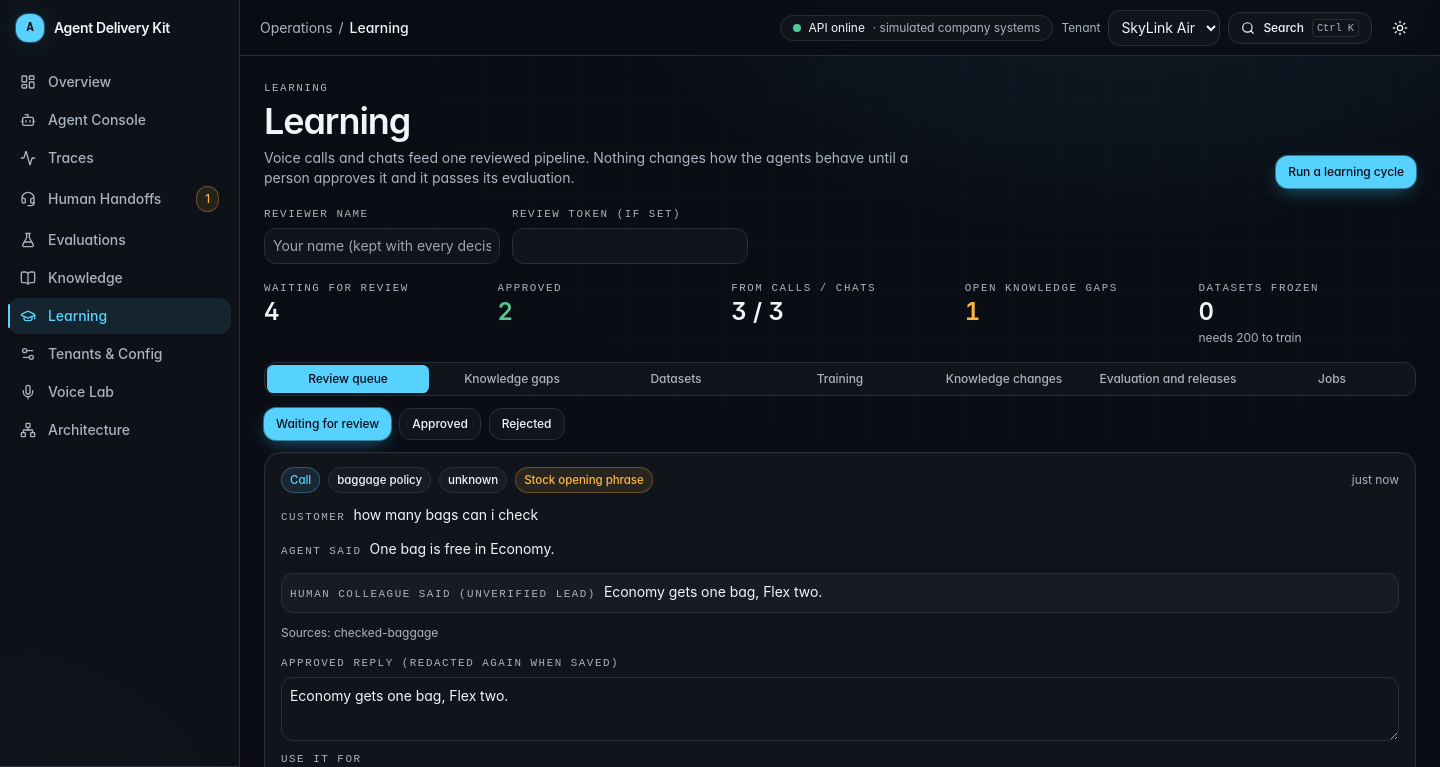
it: Learning console: training and knowledge changes › shows the machine honestly, with the reason training is not ready
What coordinates should you click on to do the following:
click the tab "Training"
I would click on:
 (840, 379)
Its box is [759,365,921,393].
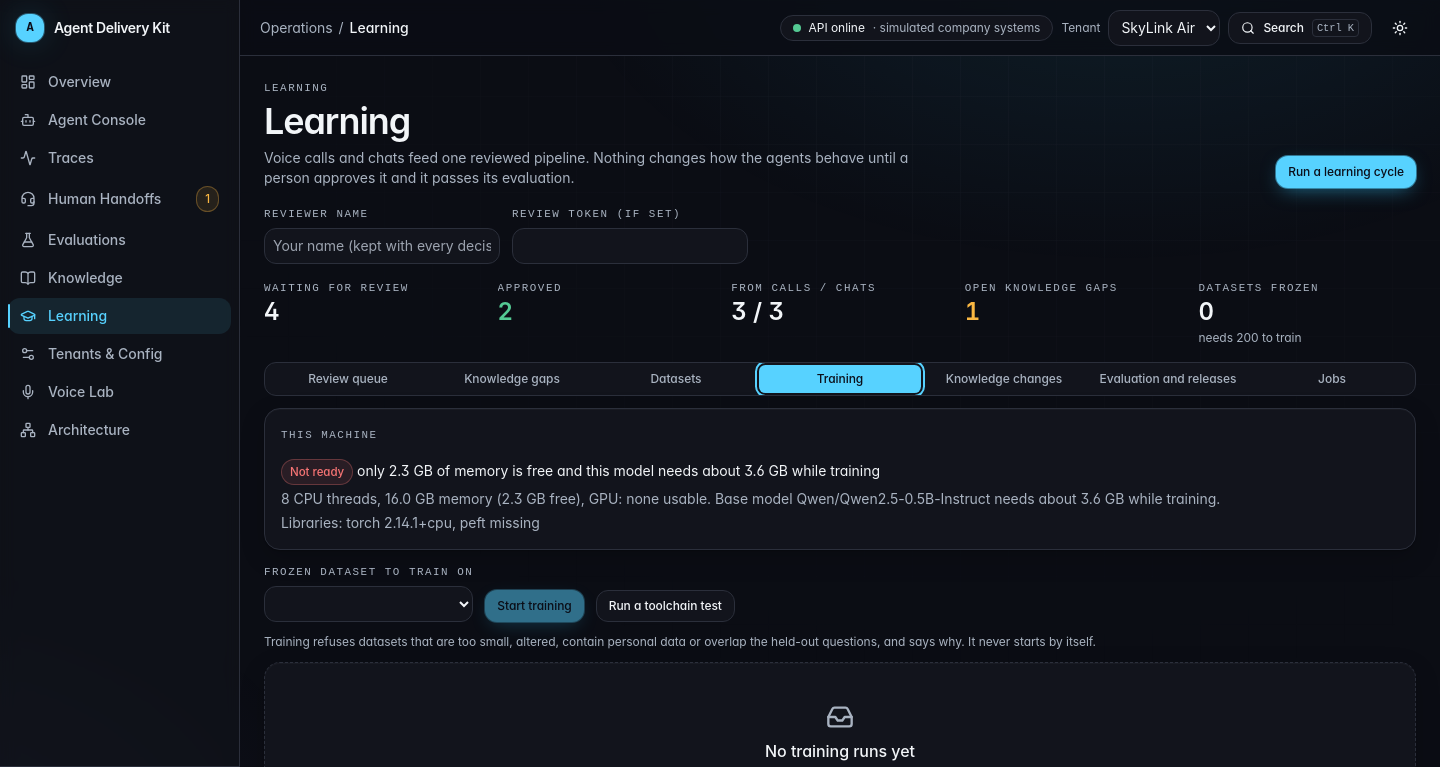
Result: the text "Not ready" is shown at [281,459,353,485]
Result: the text "only 2.3 GB of memory is free" is shown at [357,462,880,479]
Result: the text "Libraries: torch 2.14.1+cpu, peft missing" is shown at [281,514,540,531]
